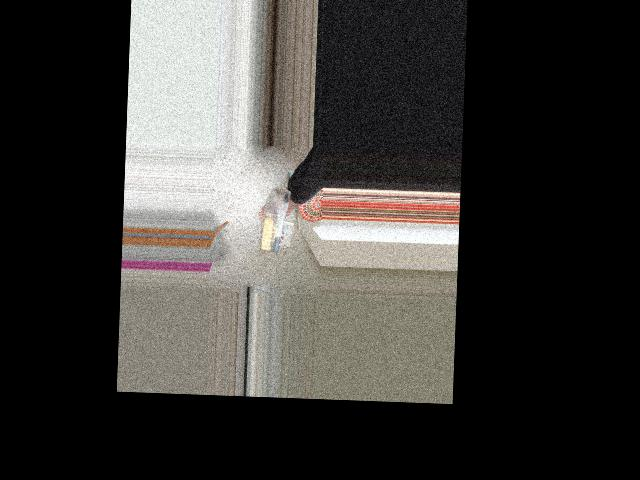cheese: (258, 189, 290, 253)
